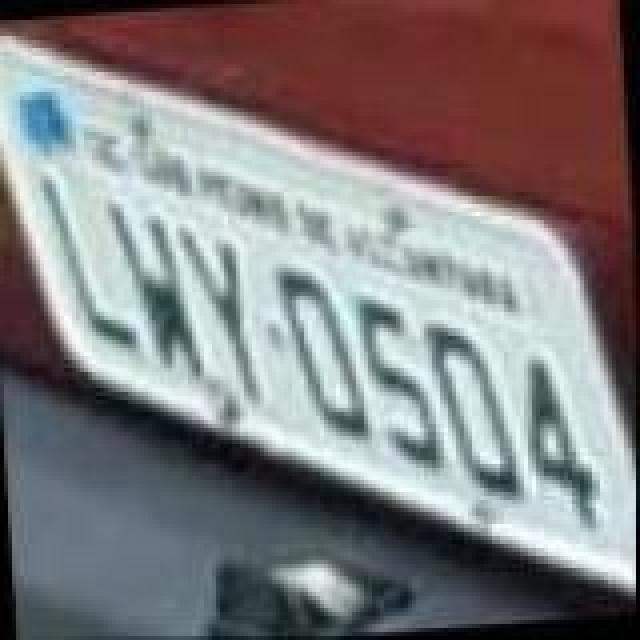4: (522, 346, 610, 542)
5: (352, 290, 444, 474)
L: (38, 168, 142, 360)
O: (426, 316, 530, 512), (276, 258, 376, 450)
W: (108, 196, 208, 388)
Y: (178, 218, 266, 410)
